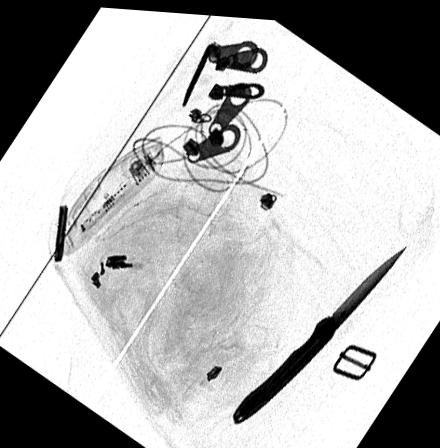Knife: (232, 238, 409, 421)
